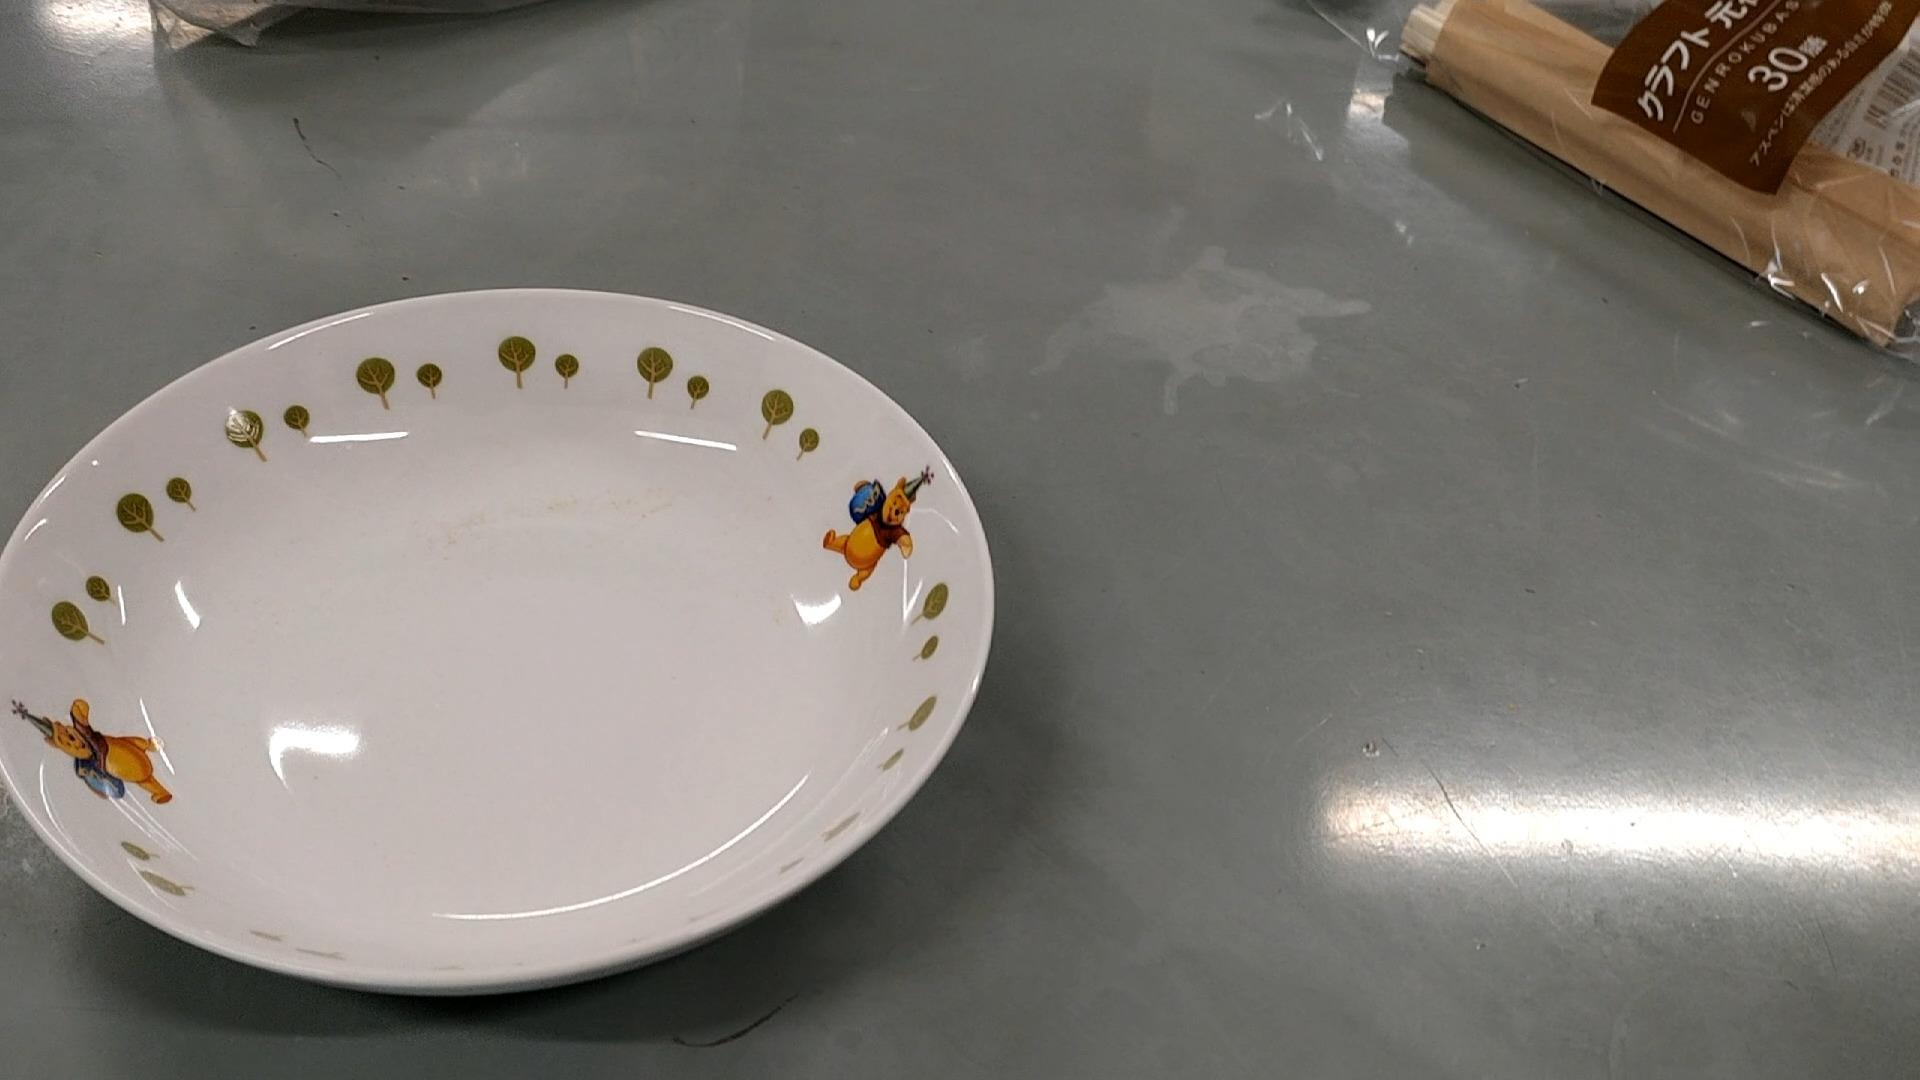plate: (3, 286, 993, 1002)
